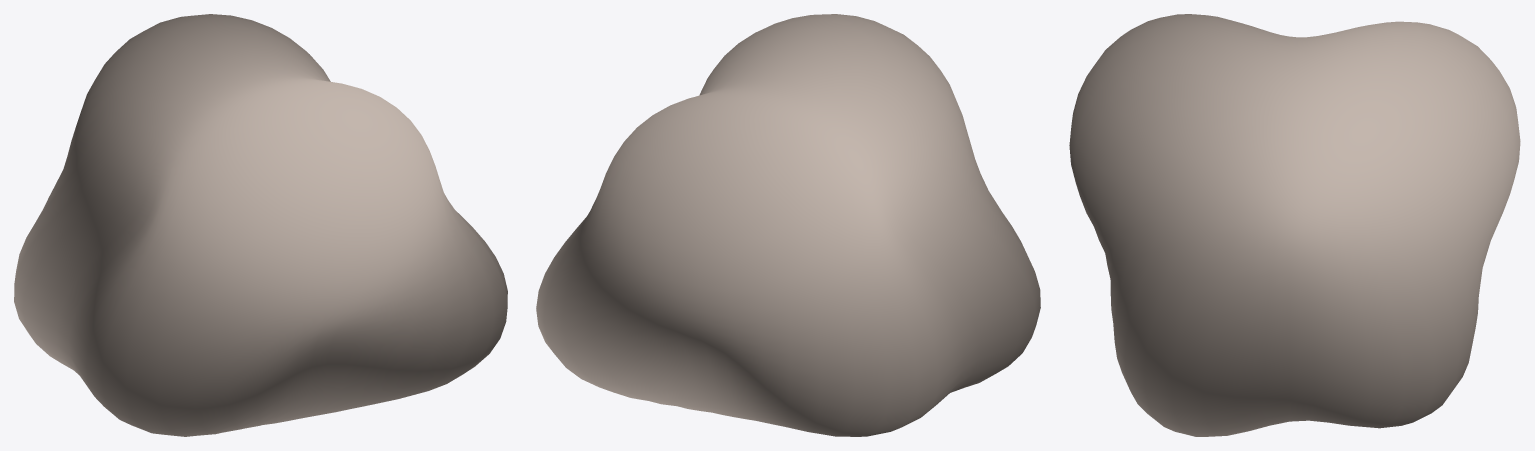
Rendered from phobos_draco.glb.
3 renders of one model, left to right at view 1: azimuth 30°, elevation 25°; view 2: azimuth 150°, elevation 25°; view 3: azimuth 270°, elevation 25°, orthographic. The views are drawn at different scales.
Parts seen in each view (by area): view 1: PhobosNode; view 2: PhobosNode; view 3: PhobosNode.
Part boxes in pixels (x1,y1,x2,y2): PhobosNode: [14, 14, 507, 436]; PhobosNode: [536, 14, 1040, 436]; PhobosNode: [1069, 14, 1520, 436].
Size of the model in its own units: 2.08 by 1.67 by 1.95.
